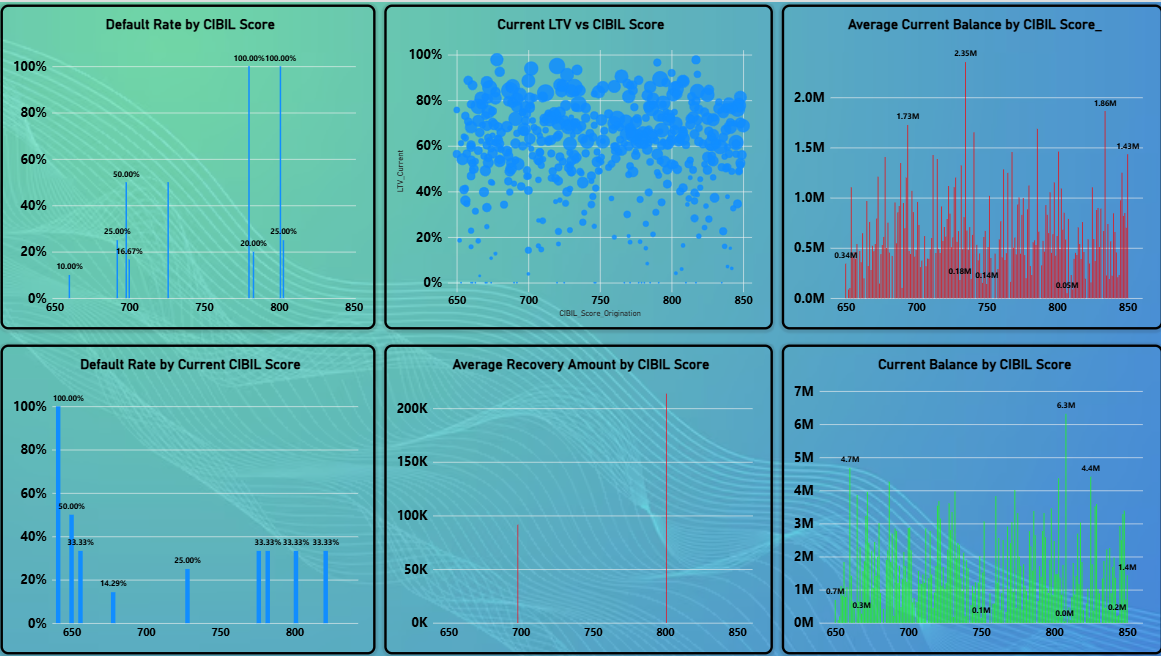

Layout of this report page (visuals, bound fields, positions):
{"tool":"powerbi","page":{"name":"Loan Performance & Risk","canvas":[1920,1080],"ordinal":7},"visuals":[{"type":"columnChart","title":"Default Rate by CIBIL Score","fields":{"Category":["Loan.CIBIL_Score_Origination"],"Y":["Measures (2).Default Rate"]},"box":[4.1,4.1,617.5,535.2],"z":0},{"type":"scatterChart","title":"Current LTV vs CIBIL Score","fields":{"X":["Loan.CIBIL_Score_Origination"],"Y":["Loan.LTV_Current"],"Size":["Sum(Loan.CurrentBalance)"]},"box":[636,4.1,640.1,535.2],"z":1000},{"type":"columnChart","title":"Average Current Balance by CIBIL Score_","fields":{"Category":["Loan.CIBIL_Score_Origination"],"Y":["Avg(Loan.CurrentBalance)"]},"box":[1290.6,4.1,627.8,535.2],"z":2000},{"type":"columnChart","title":"Default Rate by Current CIBIL Score","fields":{"Category":["Loan.CIBIL_Score_Current"],"Y":["Measures (2).Default Rate"]},"box":[4.1,564,617.5,510.5],"z":3000},{"type":"columnChart","title":"Average Recovery Amount by CIBIL Score","fields":{"Category":["Loan.CIBIL_Score_Origination"],"Y":["Avg(Loan.RecoveryAmount)"]},"box":[636,564,640,510],"z":4000},{"type":"columnChart","title":"Current Balance by CIBIL Score","fields":{"Category":["Loan.CIBIL_Score_Origination"],"Y":["Sum(Loan.CurrentBalance)"]},"box":[1291,564,628,510],"z":5000}]}

Visuals, with their boxes in screenshot pixels (x1, y1, x2, y2), scaled from the page's 1920x1080 canvas onto the 1161x656 screenshot:
"Default Rate by CIBIL Score" columnChart: x1=2 y1=2 x2=376 y2=328
"Current LTV vs CIBIL Score" scatterChart: x1=385 y1=2 x2=772 y2=328
"Average Current Balance by CIBIL Score_" columnChart: x1=780 y1=2 x2=1160 y2=328
"Default Rate by Current CIBIL Score" columnChart: x1=2 y1=343 x2=376 y2=653
"Average Recovery Amount by CIBIL Score" columnChart: x1=385 y1=343 x2=772 y2=652
"Current Balance by CIBIL Score" columnChart: x1=781 y1=343 x2=1160 y2=652
